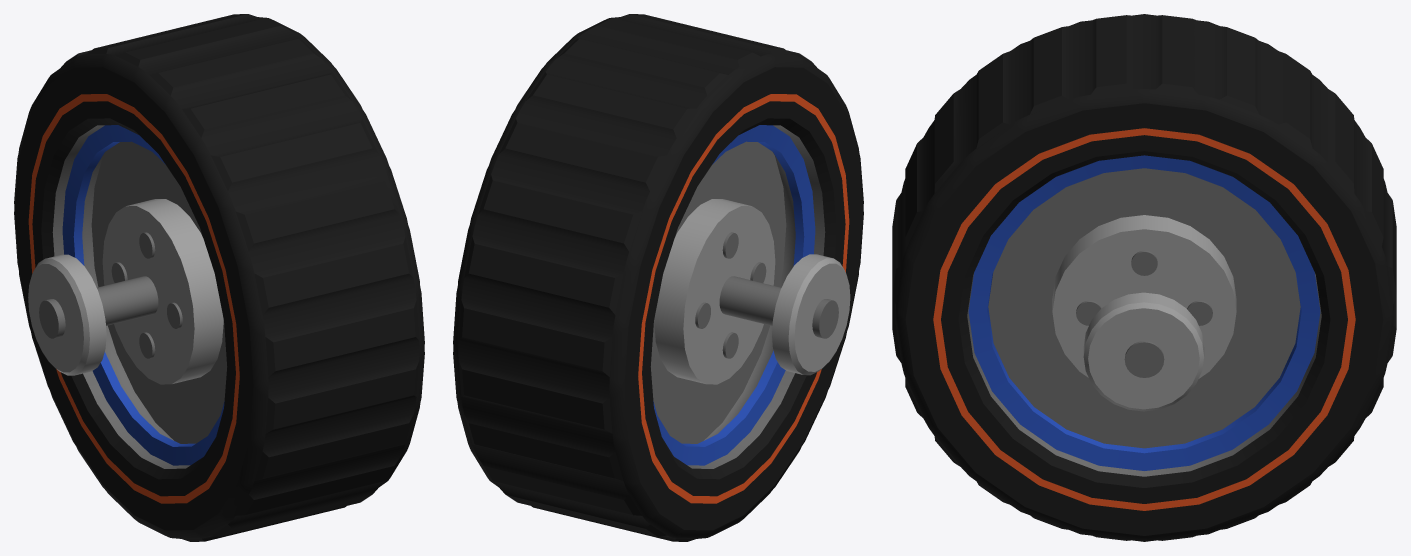
File: wheel_FL.glb
3 renders of one model, left to right at view 1: azimuth 30°, elevation 25°; view 2: azimuth 150°, elevation 25°; view 3: azimuth 270°, elevation 25°, orthographic.
Parts seen in each view (by area): view 1: wheel_FL; view 2: wheel_FL; view 3: wheel_FL.
Boxes of the visible parts, x1,y1,x2,y2 form: wheel_FL: (14,14,424,541); wheel_FL: (453,14,863,541); wheel_FL: (892,14,1396,541).
Bounding box in the file's own units: 0.0994 × 0.1281 × 0.1281.
